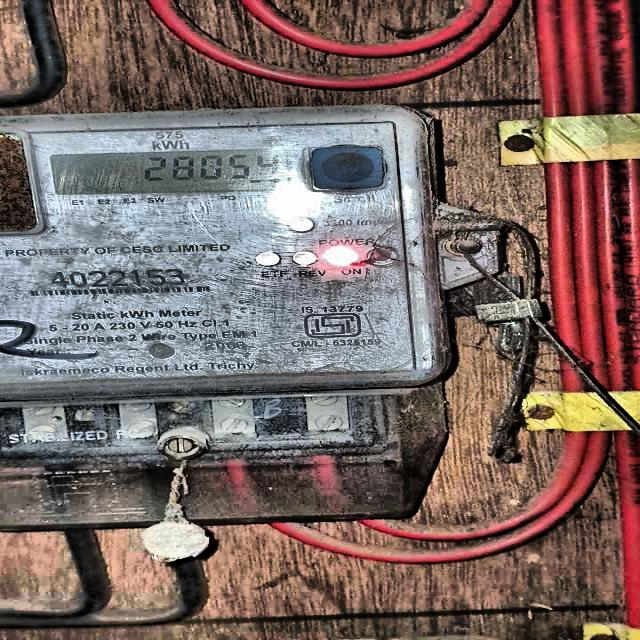Digital: (4, 113, 444, 530)
Reading: (130, 154, 301, 184)
Serial No.: (46, 268, 192, 287)
